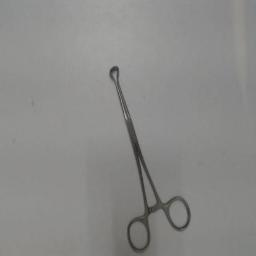Babcock Tissue Forceps: (107, 64, 193, 254)
